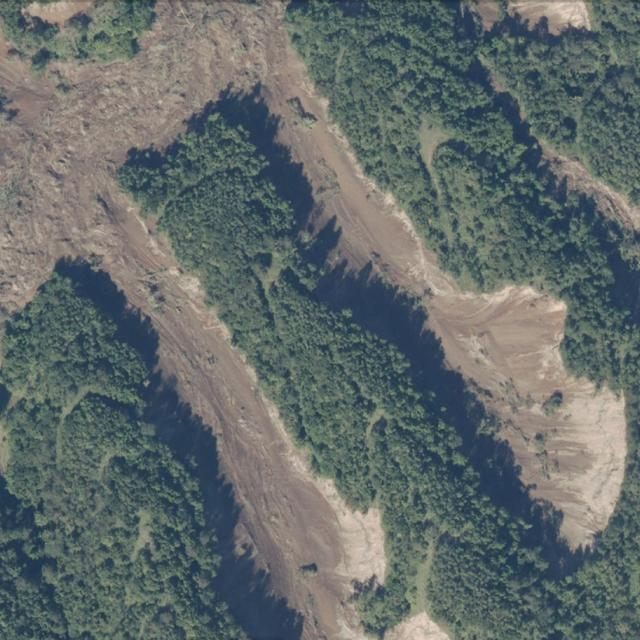landslide: (0, 1, 627, 640)
